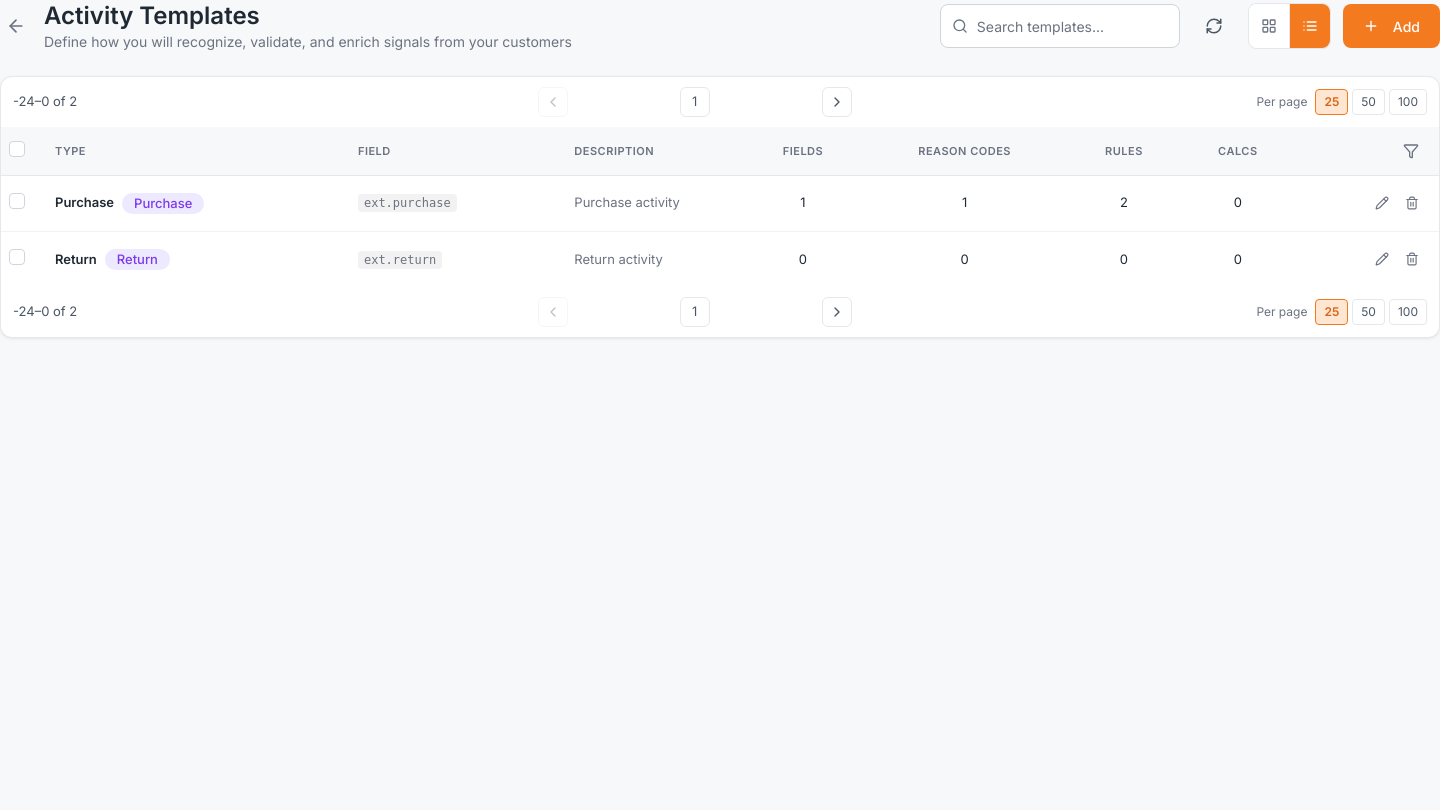
ActivityTemplatesPage › create modal flow › search with no match shows empty message
Click the button with test id "activity-templates-add": click(1391, 26) left=1343, top=4, right=1439, bottom=48
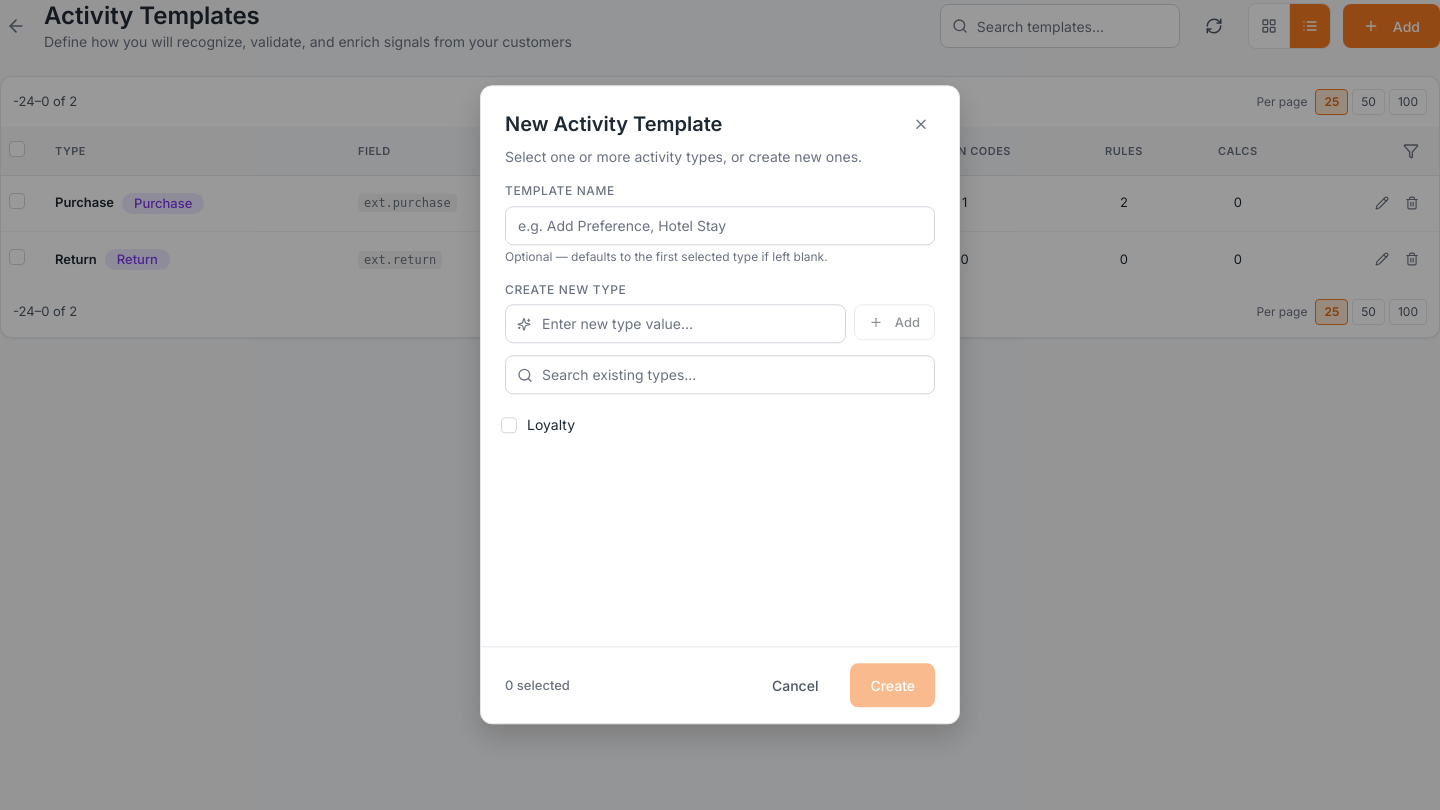
In the field with test id "activity-templates-create-search": (720, 375) left=505, top=356, right=935, bottom=395, type "nonexistent"
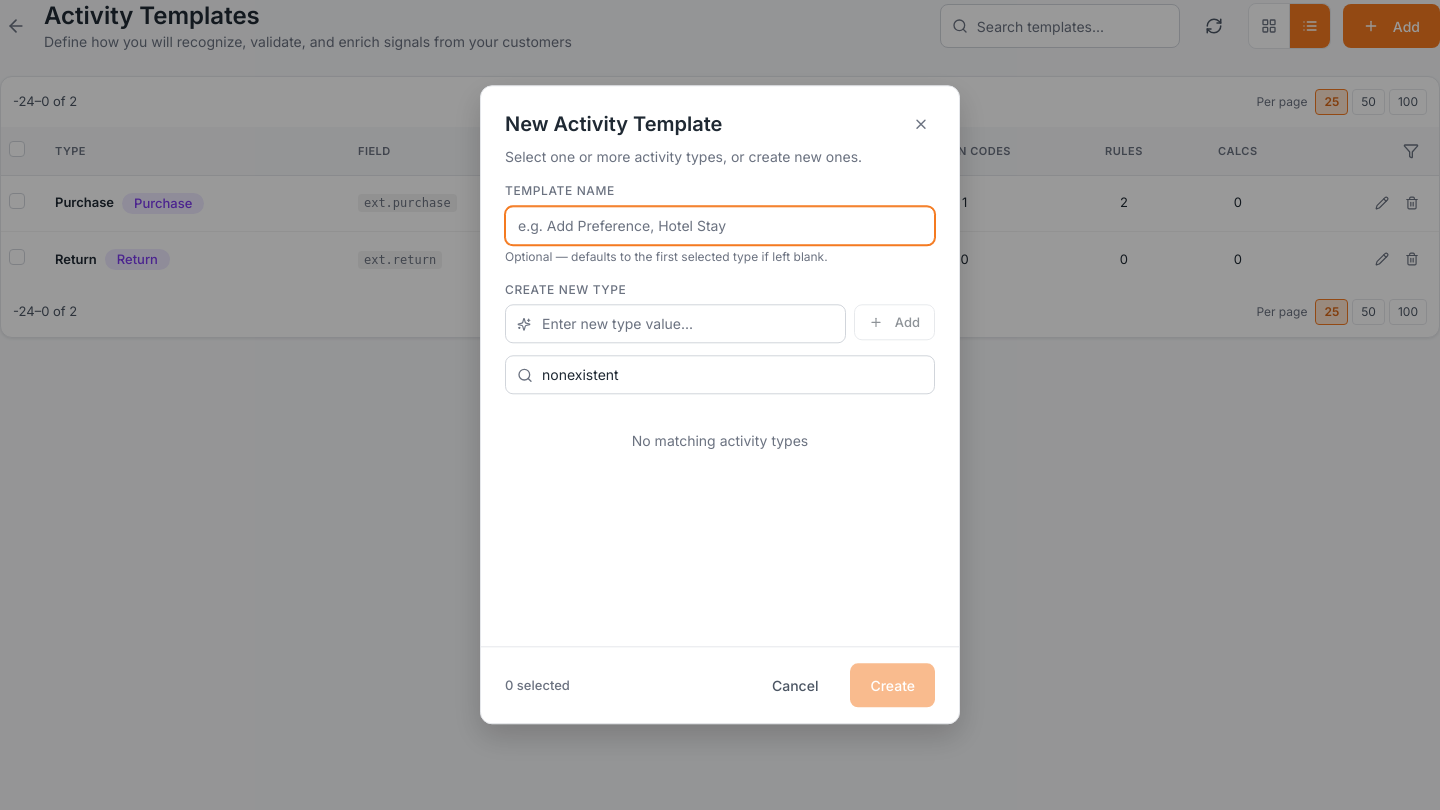
Check: the text "No matching activity types" is shown, box left=632, top=433, right=808, bottom=450
